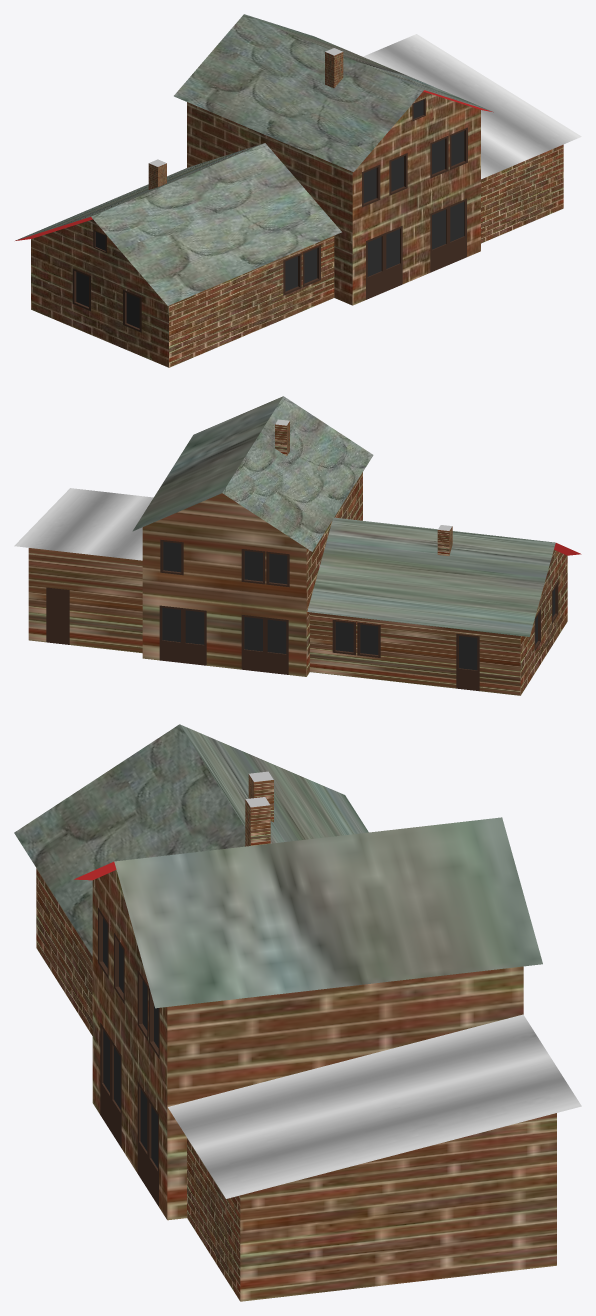
The model's file is GMLID_BUI184698_512_898.dae.
The picture shows the model from 3 angles, top to bottom: view 1: azimuth 30°, elevation 25°; view 2: azimuth 150°, elevation 25°; view 3: azimuth 270°, elevation 25°; orthographic projection. The views are drawn at different scales.
Size of the model in its own units: 28.28 by 16.63 by 10.56.
Materials: 7 (3 with a texture image).
